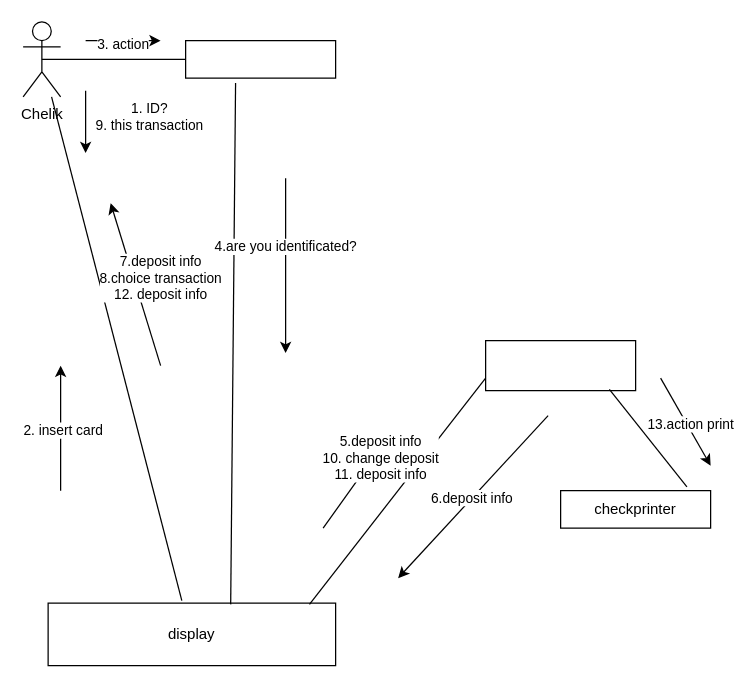
Image size: 755x688. Some labels were removed from this diagram. Here are the shapes that lost their labels. From the top down, the box of each, then its label:
(184, 39, 336, 78): cardreader
(484, 339, 636, 391): deposit
